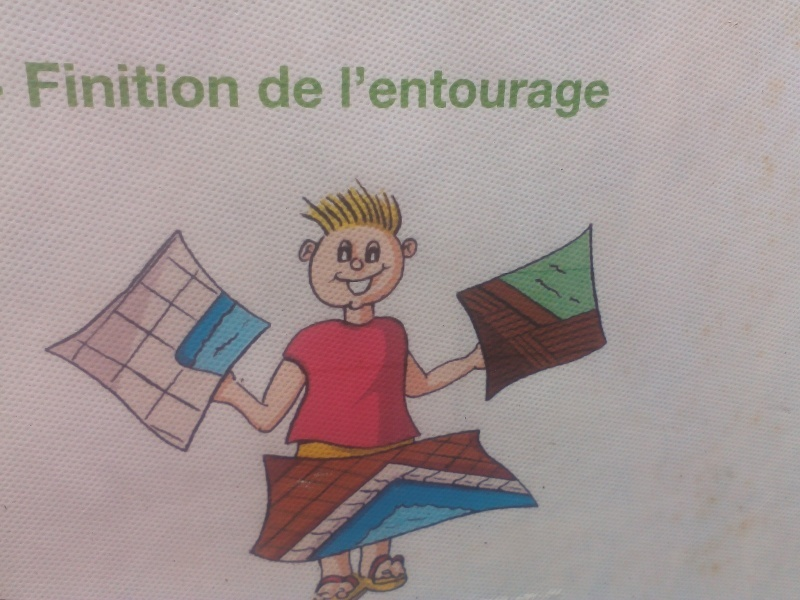text: (225, 55, 241, 109), (353, 65, 368, 120), (369, 65, 384, 120), (385, 65, 400, 120), (401, 65, 416, 120), (417, 65, 432, 120), (433, 65, 448, 120), (449, 65, 464, 120), (465, 65, 480, 120), (481, 65, 496, 120), (497, 65, 512, 120), (513, 65, 528, 120), (529, 65, 544, 120), (545, 65, 560, 120), (561, 65, 576, 120), (577, 65, 592, 120), (593, 65, 608, 120), (33, 55, 48, 109), (49, 55, 64, 109), (65, 55, 80, 109), (81, 55, 96, 109), (97, 55, 112, 109), (113, 55, 128, 109), (129, 55, 144, 109), (145, 55, 160, 109), (161, 55, 176, 109), (177, 55, 192, 109), (193, 55, 208, 109), (209, 55, 224, 109), (273, 65, 288, 111), (289, 65, 304, 111), (305, 65, 320, 111), (259, 65, 272, 111), (342, 65, 352, 120), (25, 55, 32, 109), (321, 65, 324, 111), (609, 65, 611, 120)
